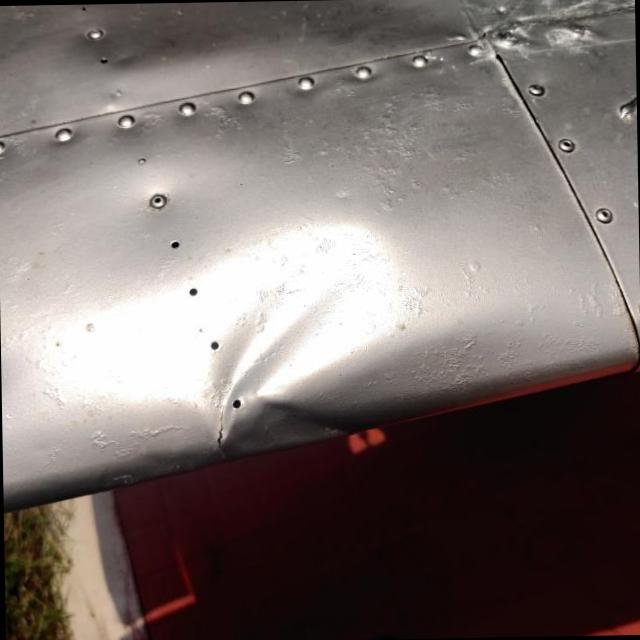Crack: (213, 410, 226, 450)
Dent: (182, 224, 416, 455)
